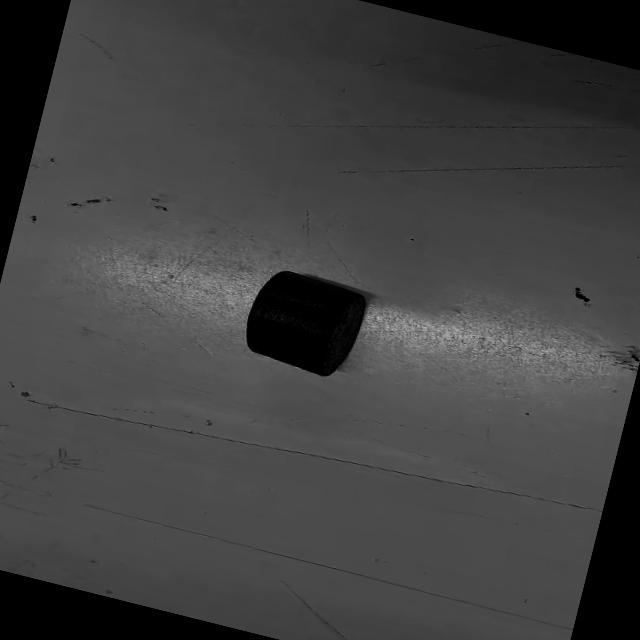bcircle: (246, 270, 367, 375)
